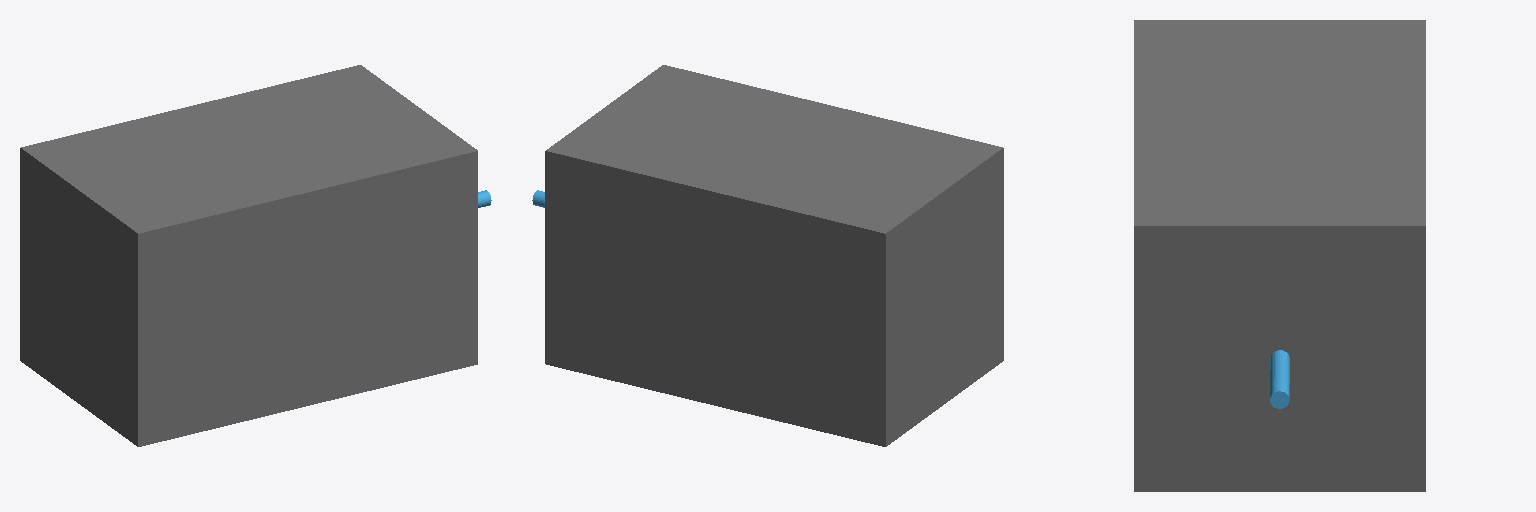
URDF robot description (chief):
<?xml version="1.0"?>
<robot name="chief">

    <!-- Body link definition -->
    <link name="body_link">
        <inertial>
            <origin xyz="0 0 0" />
            <mass value="1.0" />
            <inertia ixx="1.0" ixy="0.0" ixz="0.0" iyy="100.0" iyz="0.0" izz="1.0" />
        </inertial>
        <visual>
            <origin rpy="0 0 0" xyz="0 0 0" />
            <geometry>
                <box size="1 0.6 0.6" />
            </geometry>
            <material name="grey">
                <color rgba="0.5 0.5 0.5 1"/>
            </material>
            <gravity>0</gravity>
        </visual>
        <collision>
            <origin rpy="0 0 0" xyz="0 0 0" />
            <geometry>
                <box size="1 0.6 0.6" />
            </geometry>
        </collision>
    </link>

    <!-- Dock link definition -->
    <link name="dock_link">
        <inertial>
            <origin xyz="0 0 0" />
            <mass value="1.0" />
            <inertia ixx="1.0" ixy="0.0" ixz="0.0" iyy="100.0" iyz="0.0" izz="1.0" />
        </inertial>
        <visual>
            <origin rpy="1.570795 1.5670795 1.5670795" xyz="0.0 0.0 0.0"/>
            <geometry>
                <cylinder radius="0.02" length="0.2"/>
            </geometry>
        </visual>
        <collision>
            <origin rpy="1.570795 1.5670795 1.5670795" xyz="0.0 0.0 0.0"/>
            <geometry>
                <cylinder radius="0.02" length="0.2" />
            </geometry>
        </collision>
    </link>


    <!-- Joint connecting body_link and dock_link -->
    <joint name="dock_joint" type="fixed">
        <parent link="body_link"/>
        <child link="dock_link"/>
        <origin xyz="0.6 0.0 0.0" rpy="0 0 0"/>
        <axis xyz="0.0 1.0 0.0"/>
    </joint>

    <!-- Gazebo configuration for body_link and dock_link -->
    <gazebo reference="body_link">
        <gravity>0</gravity>
        <material>Gazebo/Grey</material>
    </gazebo>
    <gazebo reference="dock_link">
        <gravity>0</gravity>
        <material>Gazebo/Grey</material>
    </gazebo>

</robot>

--- What the picture shows (computed from the rendered views, not written in the file) ---
3 views of the same robot in one strip: view 1: azimuth 30°, elevation 25°; view 2: azimuth 150°, elevation 25°; view 3: azimuth 270°, elevation 25° (orthographic).
Model chief with 2 links and 1 joints (1 fixed), rooted at body_link, posed all joints at 0.
Visible links, largest first — view 1: body_link; view 2: body_link; view 3: body_link, dock_link.
Link boxes in pixels (x1,y1,x2,y2): body_link: [20, 65, 477, 446]; body_link: [545, 65, 1003, 446]; body_link: [1134, 20, 1425, 491]; dock_link: [1270, 350, 1289, 408].
Bounding box of the posed robot: 1.2 × 0.6 × 0.6 m (x, y, z).
Geometry: primitives only (box / cylinder / sphere), no mesh files.